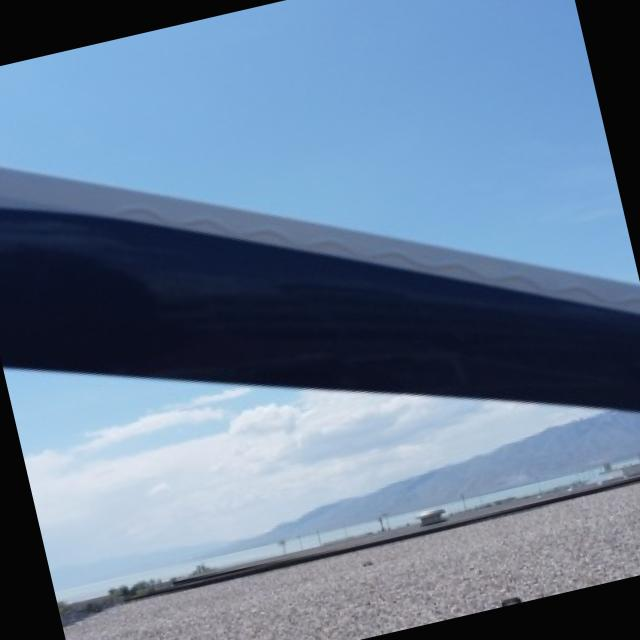healthy: (0, 166, 640, 583)
